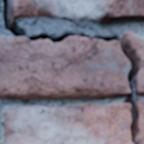brick: (11, 0, 143, 23)
broken_brick: (0, 36, 129, 99), (3, 102, 130, 143), (121, 30, 143, 95), (137, 100, 143, 143)
crack: (2, 0, 141, 143), (30, 0, 37, 5)
